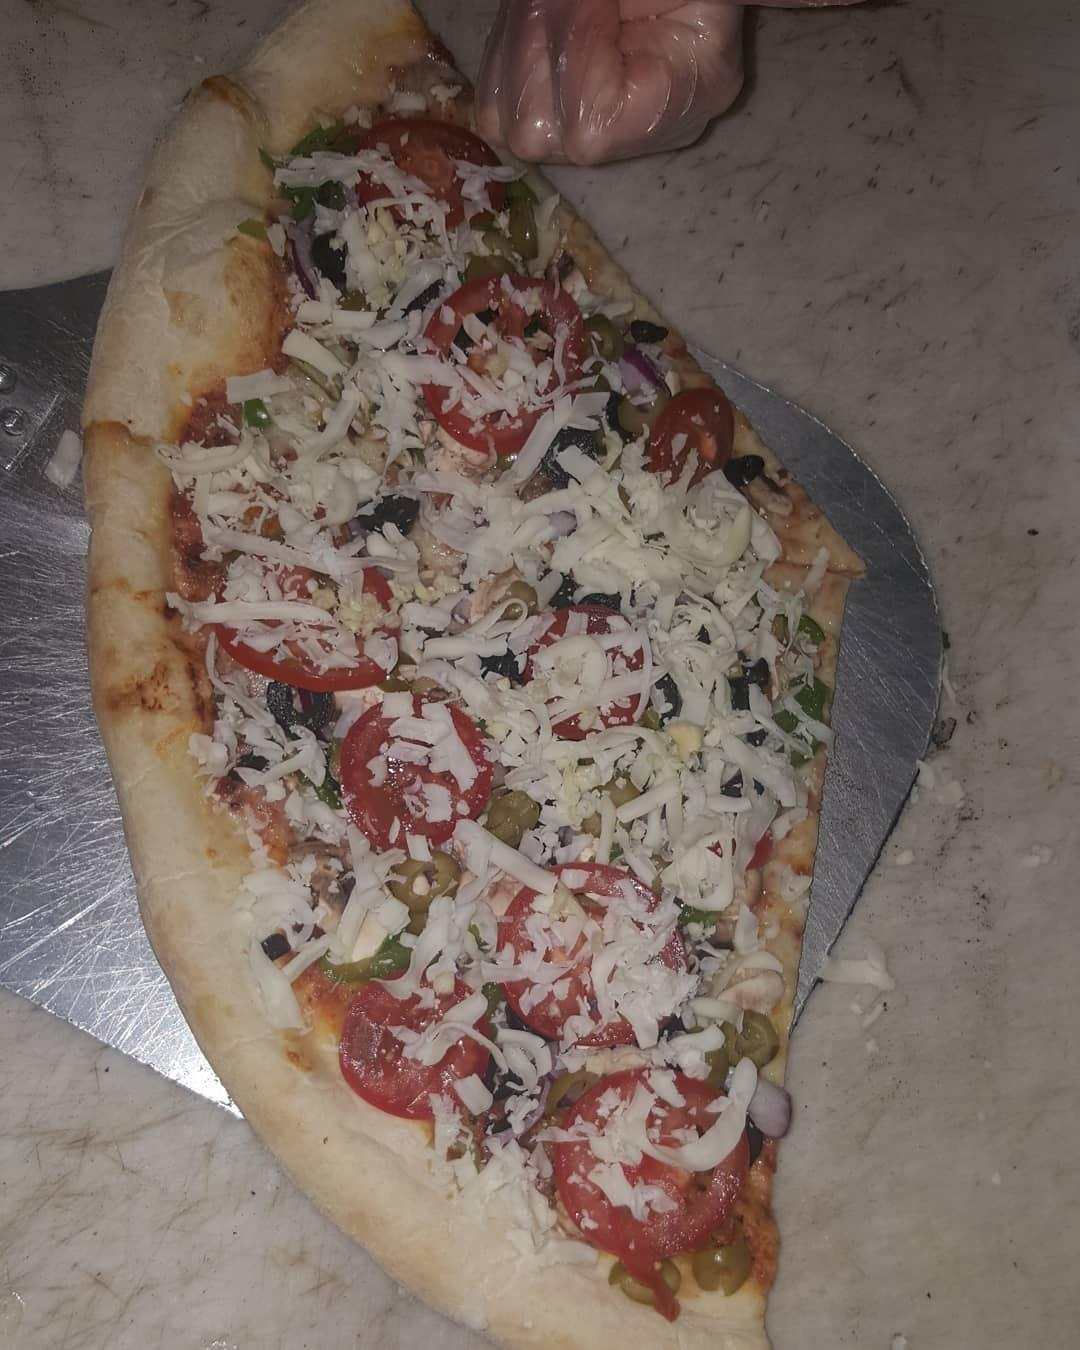Cheese: (408, 457, 765, 817), (237, 384, 397, 530), (344, 861, 487, 963)
Olives: (573, 774, 652, 840), (714, 1001, 791, 1067), (477, 174, 528, 263), (609, 375, 680, 436), (387, 854, 450, 918), (487, 767, 541, 840), (668, 897, 730, 960), (698, 1224, 748, 1294), (484, 573, 547, 627), (579, 311, 626, 375), (294, 234, 348, 288), (724, 454, 773, 494)
Peppers: (271, 123, 367, 224), (313, 924, 423, 991), (762, 668, 831, 771), (762, 603, 829, 663), (220, 386, 270, 432)
Pizza: (84, 0, 874, 1350)
Tomatoes: (411, 264, 583, 461), (554, 1078, 746, 1243), (494, 861, 666, 1035), (210, 548, 408, 685), (347, 971, 490, 1131), (331, 704, 477, 849), (516, 593, 647, 745), (625, 363, 748, 500)
